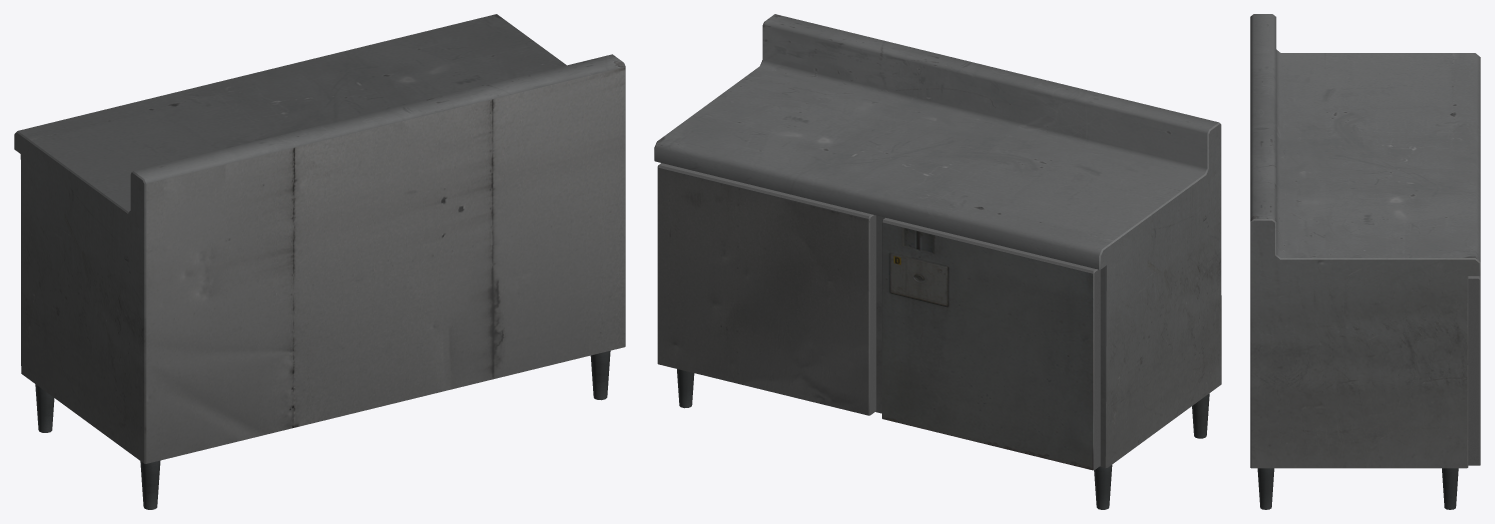
File: worktable-2.FBX
3 views of the same model, side by side, from view 1: azimuth 30°, elevation 25°; view 2: azimuth 150°, elevation 25°; view 3: azimuth 270°, elevation 25° (orthographic). The views are drawn at different scales.
Visible parts, largest first — view 1: Cylinder06; view 2: Cylinder06; view 3: Cylinder06.
Boxes of the visible parts, <box> form: Cylinder06: <box>14,14,625,509</box>; Cylinder06: <box>654,14,1221,509</box>; Cylinder06: <box>1250,14,1480,509</box>.
Bounding box in the file's own units: 65 × 43.41 × 30.74.
